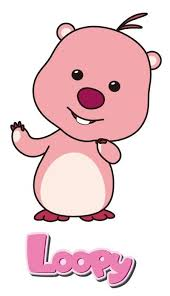Loopy: (10, 7, 163, 227)
